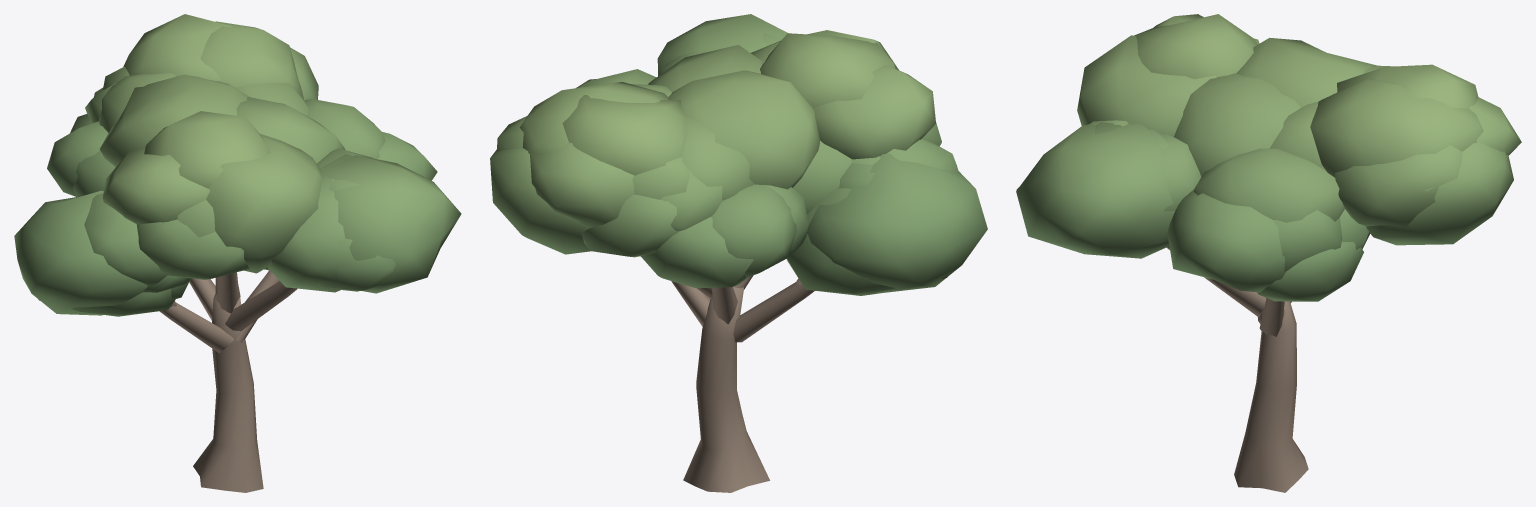
The model's file is tree-camphor.glb.
The picture shows the model from 3 angles, left to right: view 1: azimuth 30°, elevation 25°; view 2: azimuth 150°, elevation 25°; view 3: azimuth 270°, elevation 25°; orthographic projection. The views are drawn at different scales.
Visible parts, largest first — view 1: tree_foliage, tree_bark; view 2: tree_foliage, tree_bark; view 3: tree_foliage, tree_bark.
Part boxes in pixels (left/top/right/bottom): tree_foliage: left=14, top=14, right=461, bottom=316; tree_bark: left=159, top=270, right=297, bottom=492; tree_foliage: left=490, top=14, right=987, bottom=295; tree_bark: left=671, top=275, right=814, bottom=492; tree_foliage: left=1016, top=14, right=1521, bottom=301; tree_bark: left=1166, top=246, right=1308, bottom=492.
Bounding box in the file's own units: 1.15 × 1.1 × 1.19.
